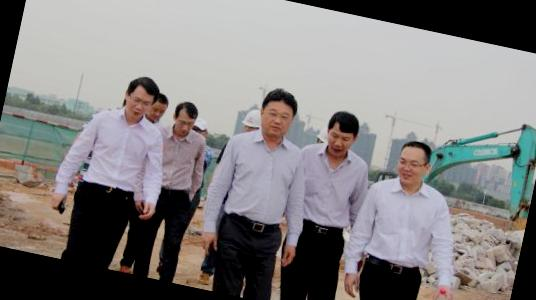no_helmet: (252, 82, 305, 144), (389, 136, 439, 191), (320, 105, 367, 162), (120, 72, 162, 124), (169, 97, 204, 137), (146, 91, 171, 124)
